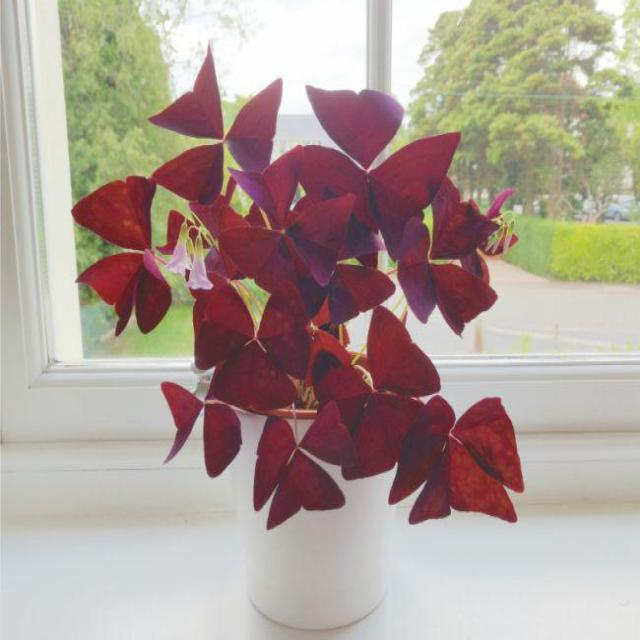other: (96, 51, 573, 530)
